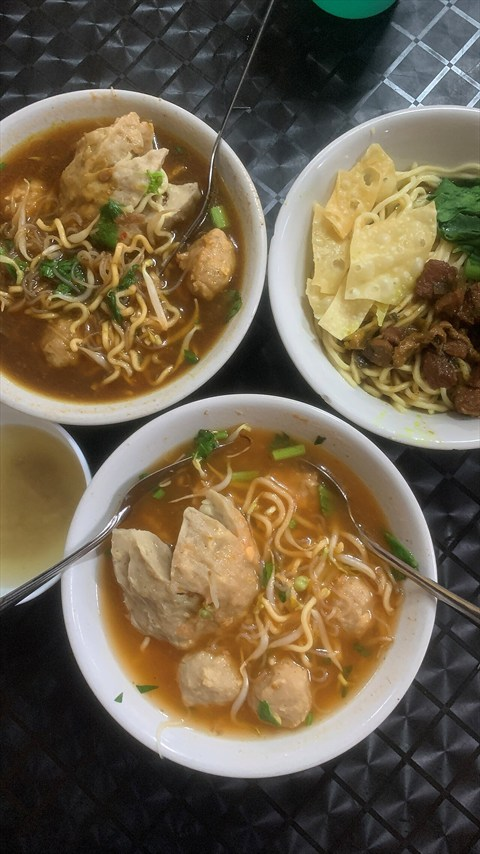Bakso: (55, 127, 425, 763)
